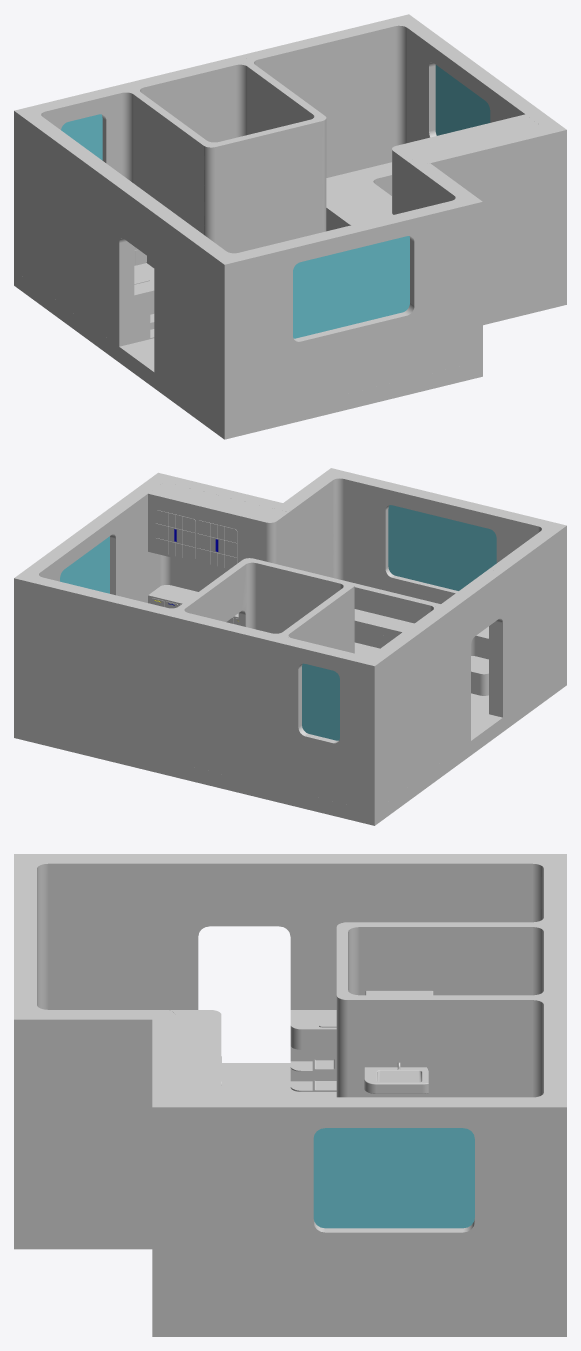
The model's file is memory typeB OptionA.glb.
The picture shows the model from 3 angles, top to bottom: view 1: azimuth 30°, elevation 25°; view 2: azimuth 150°, elevation 25°; view 3: azimuth 270°, elevation 25°; orthographic projection. The views are drawn at different scales.
Parts seen in each view (by area): view 1: 卧室墙, 厕所墙, 厨房墙, 阅读区墙, 客厅墙, Glass, 卧室柜子, 卧室床（软）, 厨房橱柜; view 2: 卧室墙, 厨房墙, 厕所墙, 阅读区墙, 客厅墙, Glass, 卧室柜子, 卧室柜门, 客厅沙发（软）, 客厅沙发（硬）; view 3: 卧室墙, 厕所墙, 客厅墙, 厨房墙, 阅读区墙, Glass, 卧室柜子, 厨房橱柜, 陶瓷（白色）.
Boxes of the visible parts, bbox=[...] form: 卧室墙: bbox=[242, 14, 566, 325]; 厕所墙: bbox=[121, 55, 326, 267]; 厨房墙: bbox=[14, 84, 168, 387]; 阅读区墙: bbox=[154, 209, 315, 439]; 客厅墙: bbox=[307, 163, 482, 417]; Glass: bbox=[61, 65, 490, 338]; 卧室柜子: bbox=[392, 114, 539, 214]; 卧室床（软）: bbox=[326, 162, 393, 227]; 厨房橱柜: bbox=[134, 248, 154, 342]; 卧室墙: bbox=[14, 472, 296, 774]; 厨房墙: bbox=[277, 569, 502, 825]; 厕所墙: bbox=[166, 558, 354, 802]; 阅读区墙: bbox=[471, 505, 566, 731]; 客厅墙: bbox=[283, 468, 483, 659]; Glass: bbox=[60, 505, 496, 740]; 卧室柜子: bbox=[148, 483, 292, 624]; 卧室柜门: bbox=[151, 510, 238, 624]; 客厅沙发（软）: bbox=[354, 609, 414, 637]; 客厅沙发（硬）: bbox=[354, 628, 394, 648]; 卧室墙: bbox=[152, 1000, 566, 1336]; 厕所墙: bbox=[336, 918, 566, 1097]; 客厅墙: bbox=[14, 912, 152, 1249]; 厨房墙: bbox=[198, 854, 566, 1097]; 阅读区墙: bbox=[14, 854, 198, 1009]; Glass: bbox=[313, 1128, 474, 1228]; 卧室柜子: bbox=[168, 1010, 221, 1097]; 厨房橱柜: bbox=[290, 1010, 336, 1091]; 陶瓷（白色）: bbox=[364, 1067, 428, 1093].
Size of the model in its own units: 7.8 by 3.3 by 7.2.
